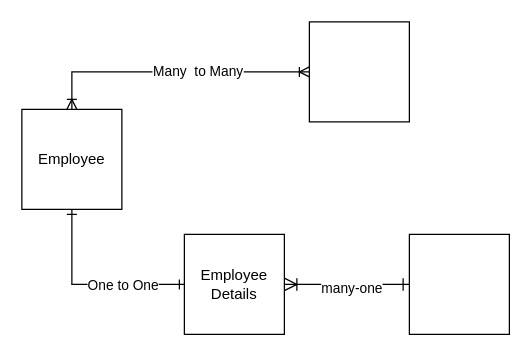
The diagram is 531 pixels wide and 356 high, and some of its shapes have lost their labels. The shapes that lost their labels are listed below. From the top down, each one's box as (x1, y1, x2, y2) in pixels, then its label:
(308, 21, 409, 122): Projects
(408, 233, 509, 334): Location
